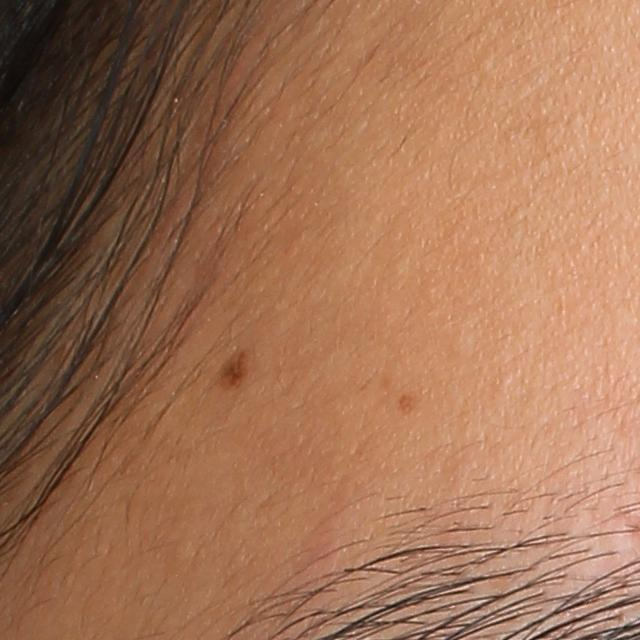nevus: (209, 347, 249, 392), (396, 391, 417, 416)
